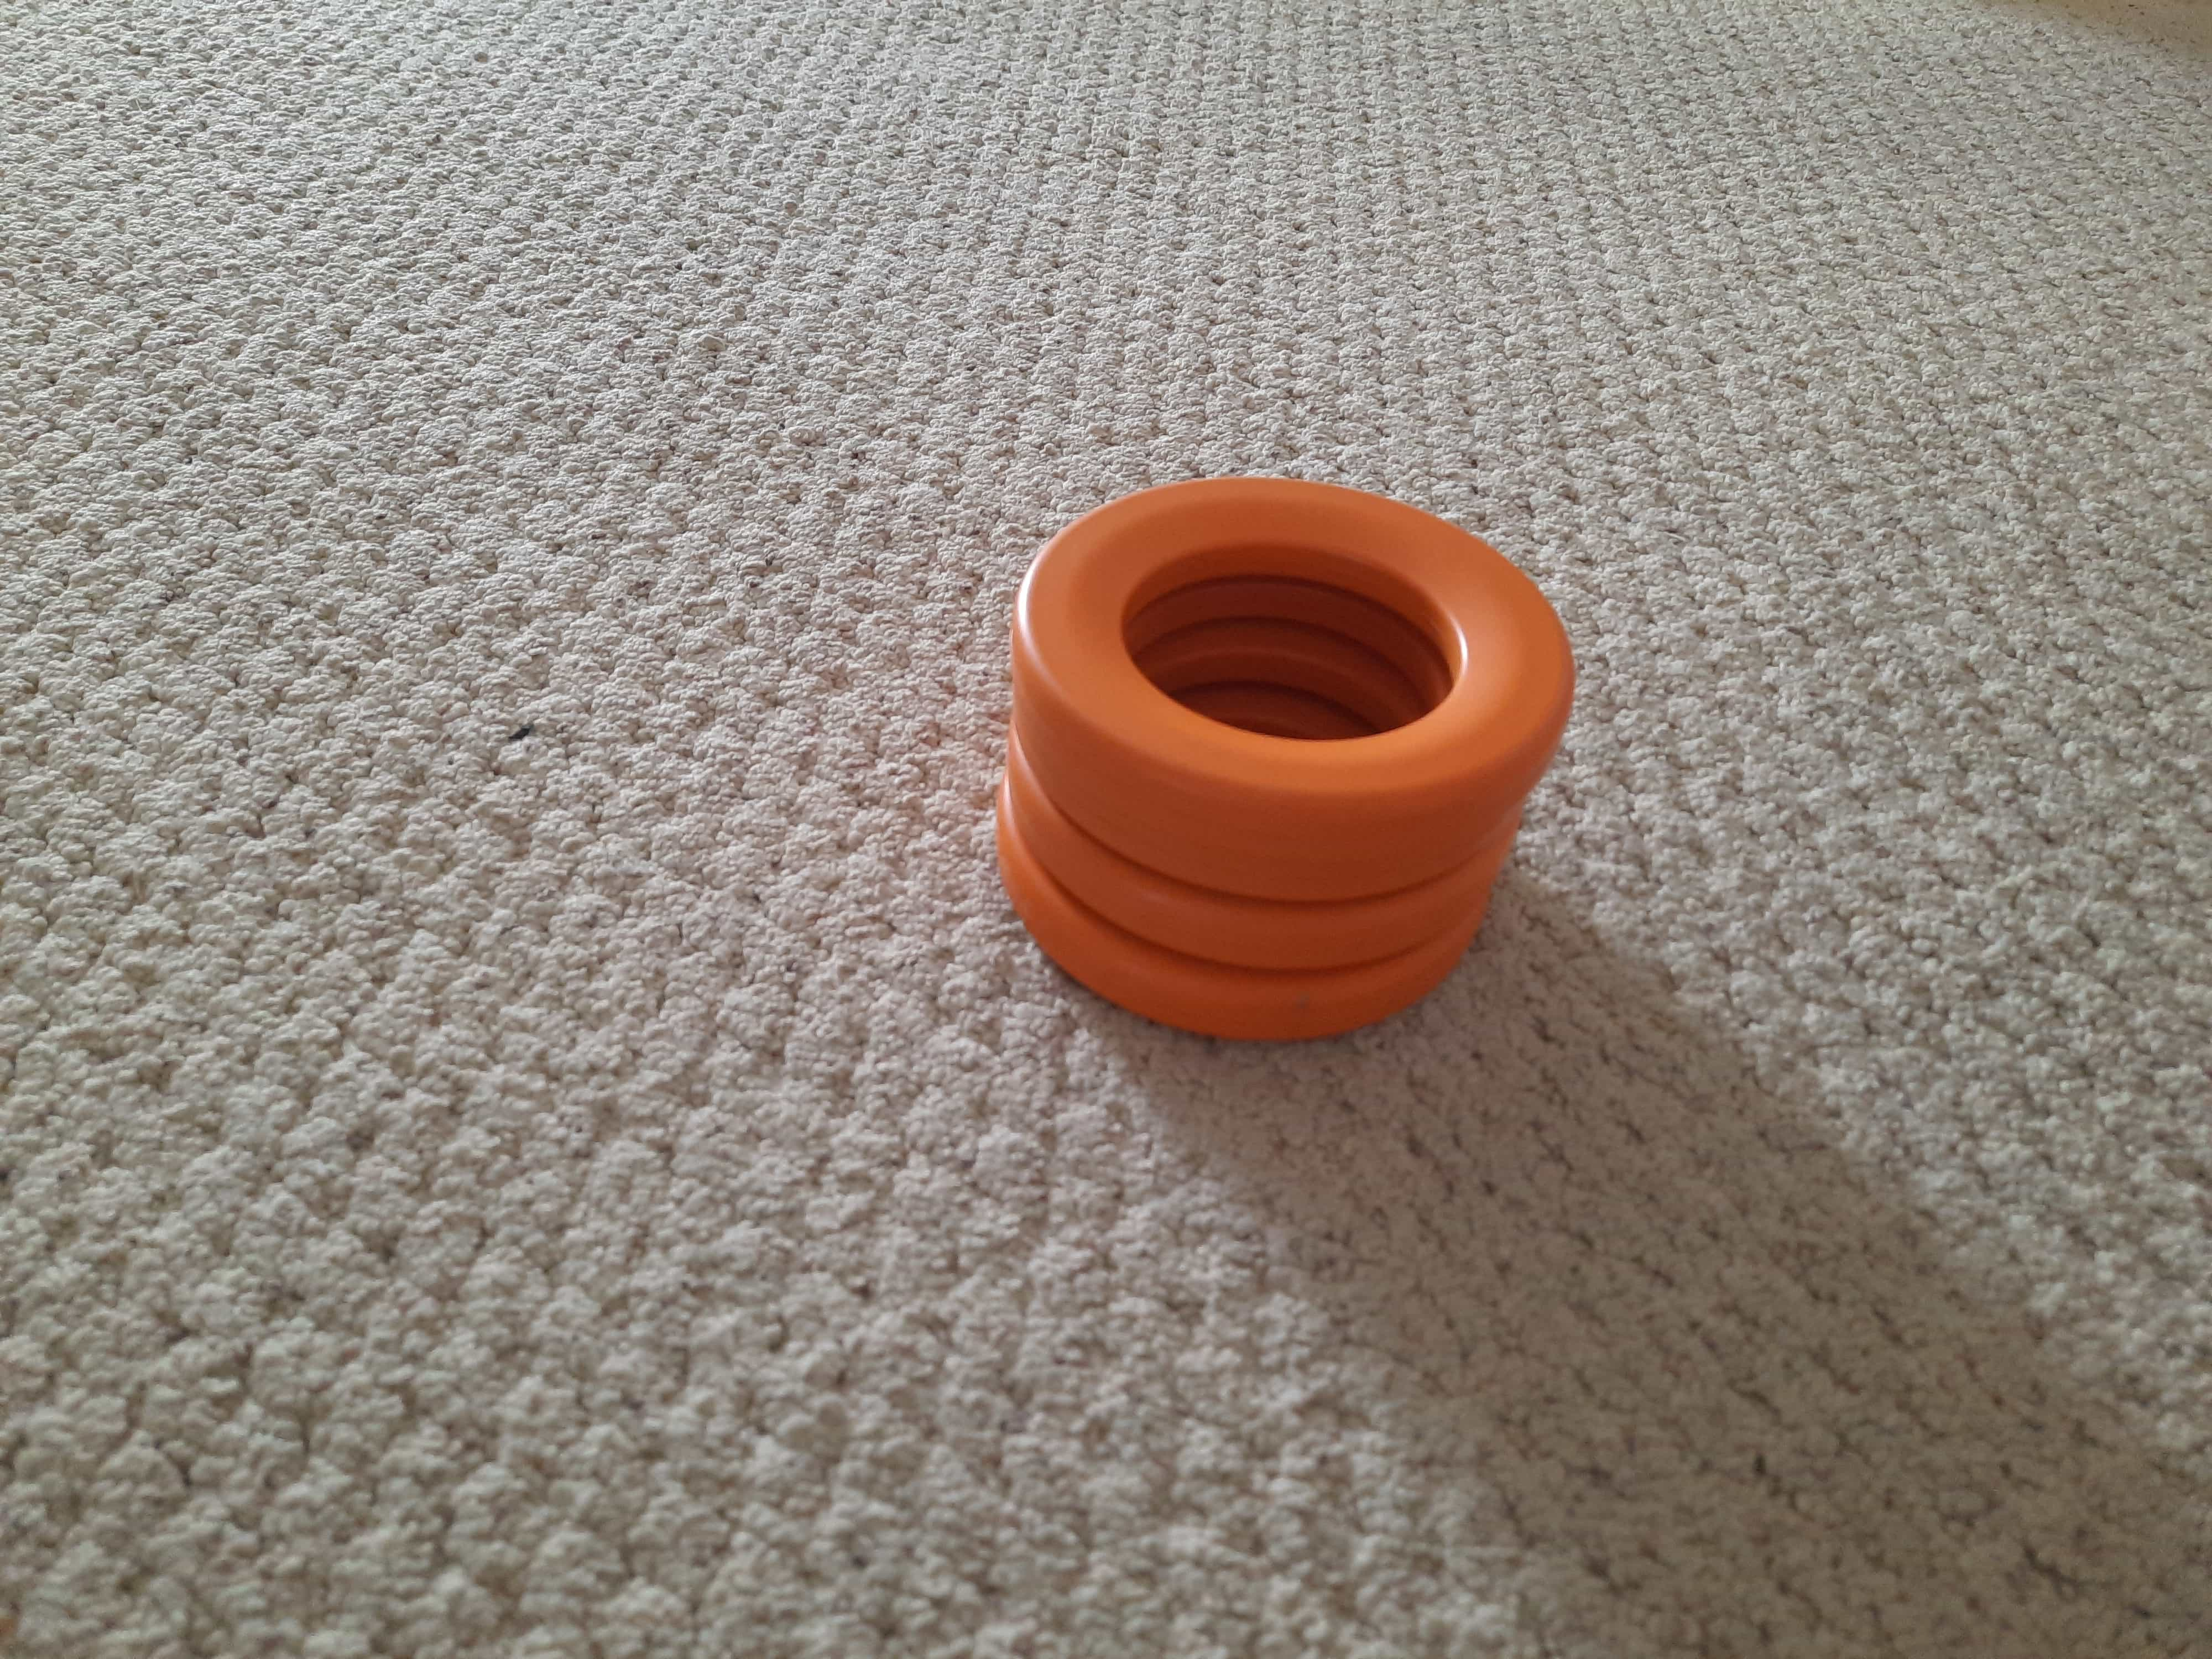FourStack: (1003, 479, 1566, 1042)
